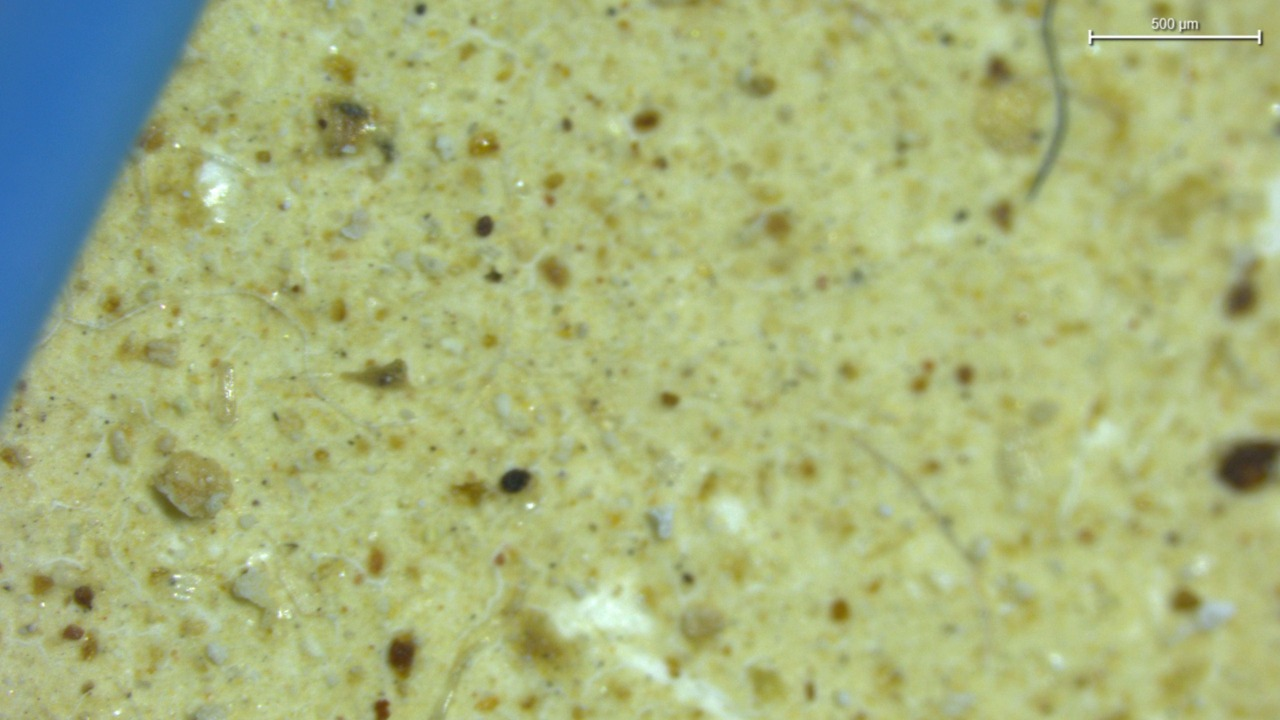microplastic_fragment: (160, 449, 234, 517), (649, 506, 673, 540)
